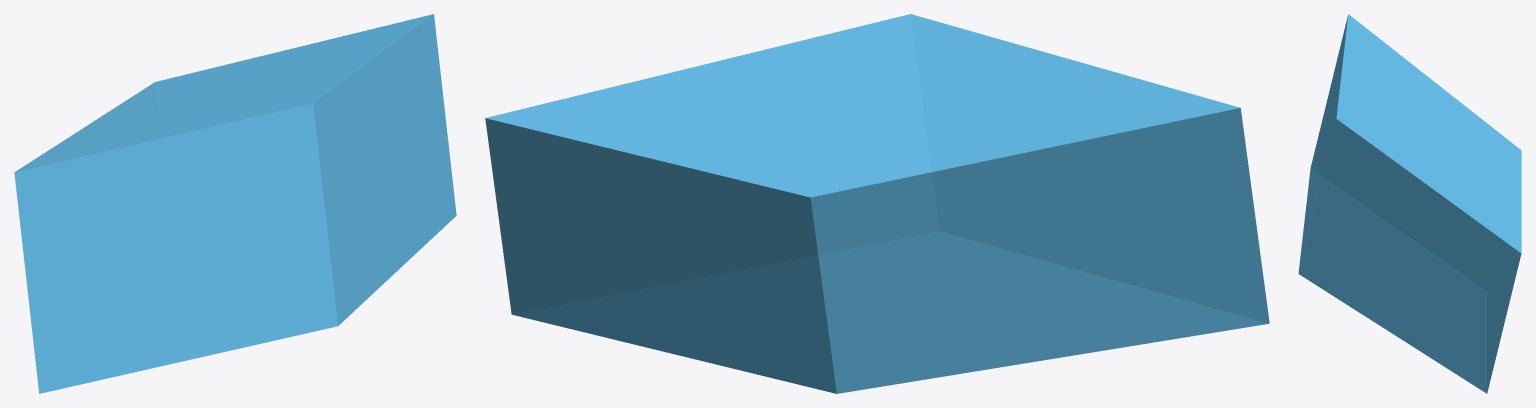
Rendered from Event_421278790_HBrechit_12.fbx.
3 renders of one model, left to right at view 1: azimuth 30°, elevation 25°; view 2: azimuth 150°, elevation 25°; view 3: azimuth 270°, elevation 25°, orthographic. The views are drawn at different scales.
Visible parts, largest first — view 1: Model; view 2: Model; view 3: Model.
Boxes of the visible parts, x1,y1,x2,y2 form: Model: (14,14,456,393); Model: (485,14,1269,393); Model: (1298,14,1521,393).
Size of the model in its own units: 1.18 by 0.5177 by 0.5648.
